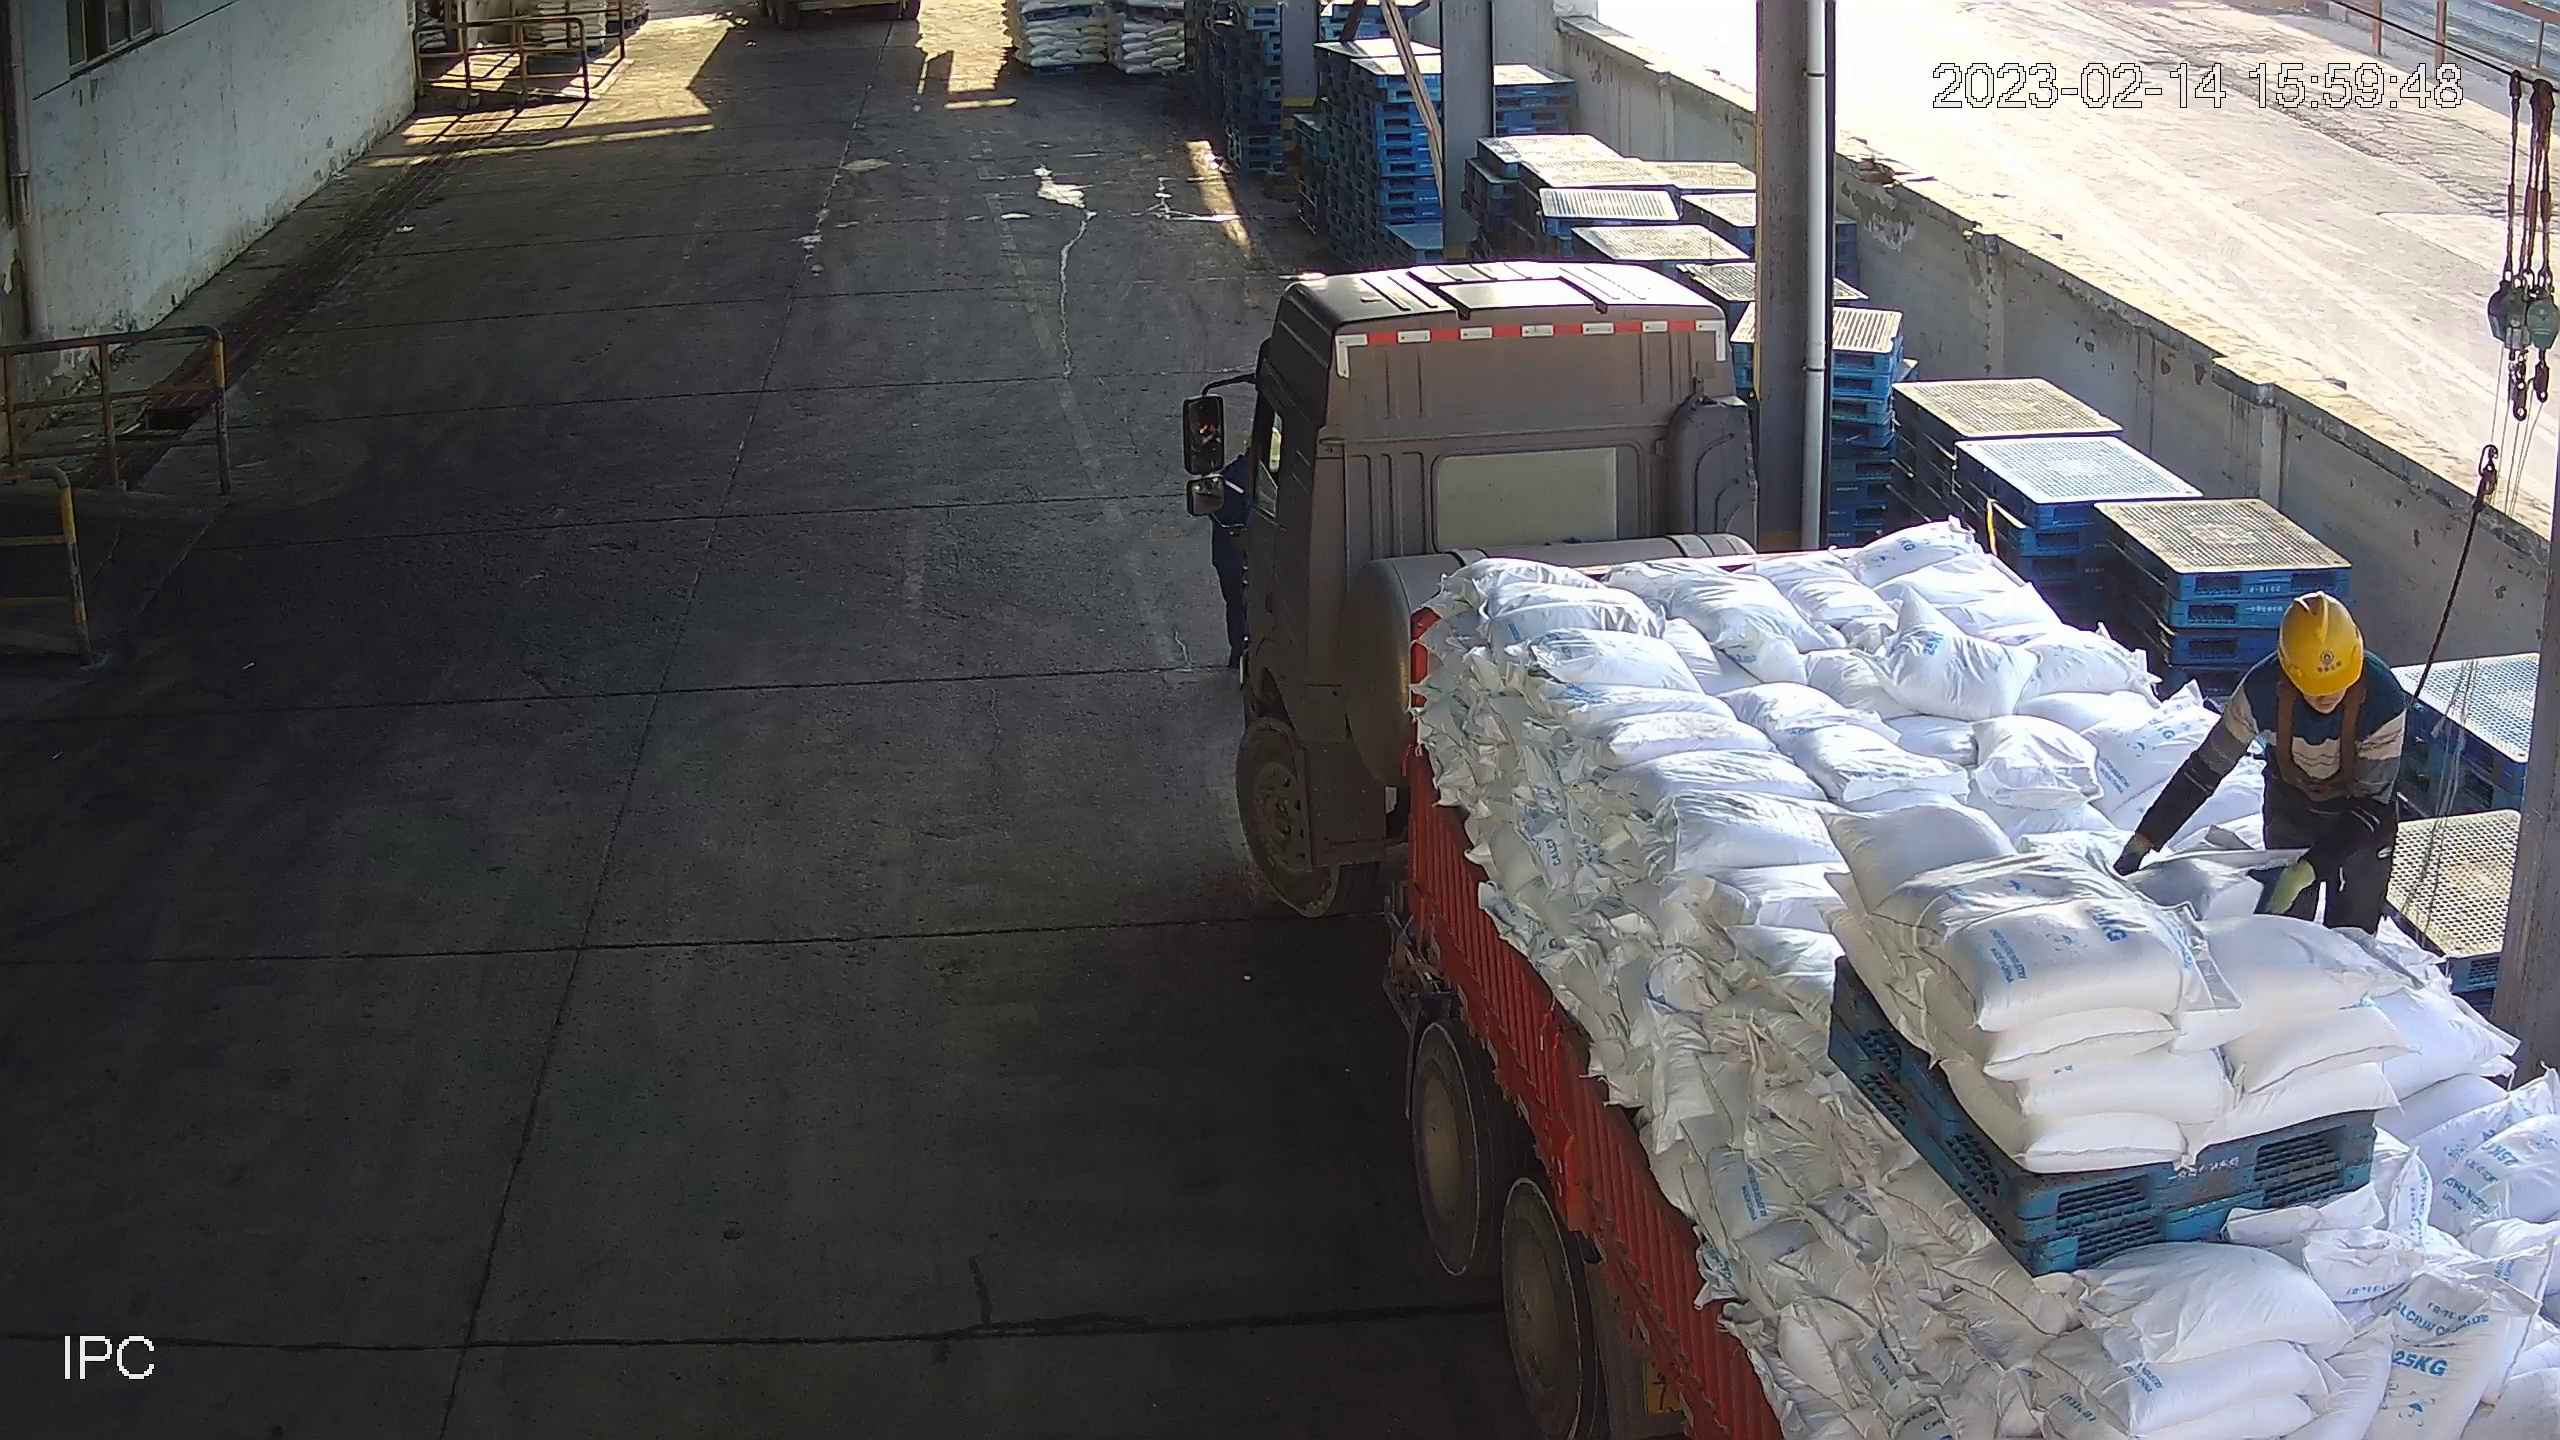belt: (2259, 673, 2372, 808)
head: (2211, 589, 2410, 773)
helmet: (2277, 594, 2363, 694)
people: (2115, 593, 2410, 937), (1207, 424, 1283, 662)
truck: (1179, 254, 2560, 1440)
